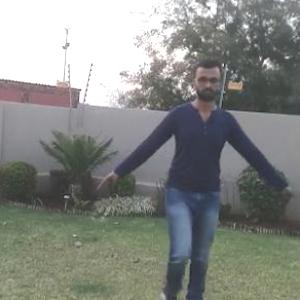land: (110, 68, 283, 299)
